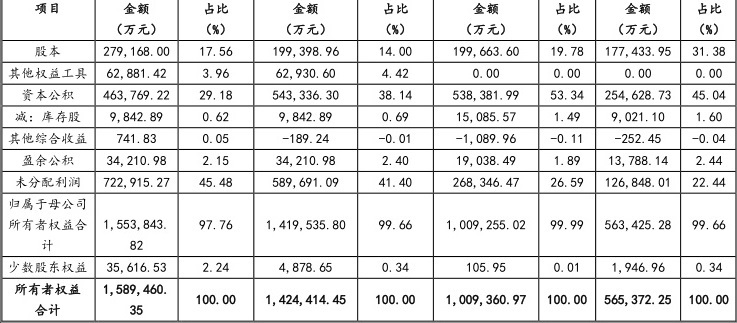column: (266, 1, 346, 323), (9, 1, 89, 322), (446, 1, 525, 323), (104, 1, 170, 323), (604, 1, 670, 323), (375, 1, 415, 323), (548, 1, 587, 323), (689, 1, 728, 323), (197, 1, 236, 322)
row: (1, 23, 737, 36), (1, 39, 735, 52), (3, 89, 737, 102), (1, 67, 737, 79), (1, 239, 737, 251), (1, 261, 737, 273), (2, 3, 737, 15), (1, 133, 737, 144), (1, 177, 737, 188), (1, 199, 737, 210), (1, 219, 737, 230), (2, 284, 737, 295), (3, 305, 737, 316), (4, 155, 737, 166), (2, 112, 737, 122), (2, 296, 737, 306)
